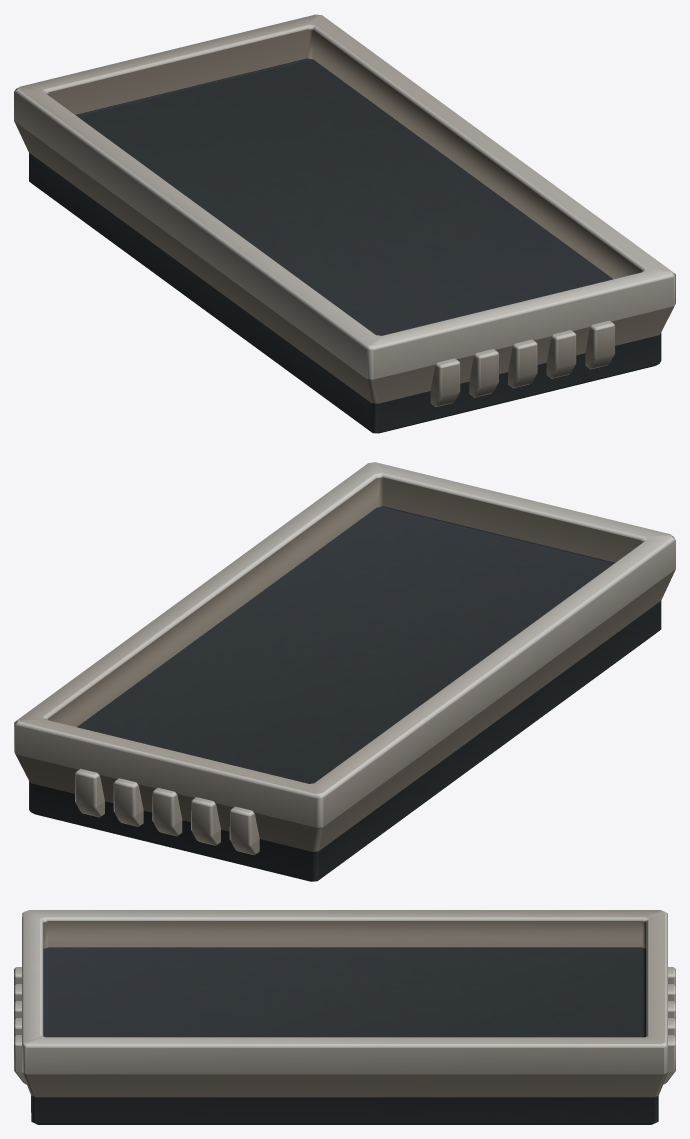
The model's file is office_building_type2_roof_cream.fbx.
The picture shows the model from 3 angles, top to bottom: view 1: azimuth 30°, elevation 25°; view 2: azimuth 150°, elevation 25°; view 3: azimuth 270°, elevation 25°; orthographic projection. The views are drawn at different scales.
Visible parts, largest first — view 1: office_building_type2_roof_cream; view 2: office_building_type2_roof_cream; view 3: office_building_type2_roof_cream.
Part boxes in pixels (x1=…): office_building_type2_roof_cream: x1=14, y1=14, x2=675, y2=433; office_building_type2_roof_cream: x1=14, y1=462, x2=675, y2=881; office_building_type2_roof_cream: x1=14, y1=910, x2=675, y2=1124.
Bounding box in the file's own units: 800 × 232 × 1640.
